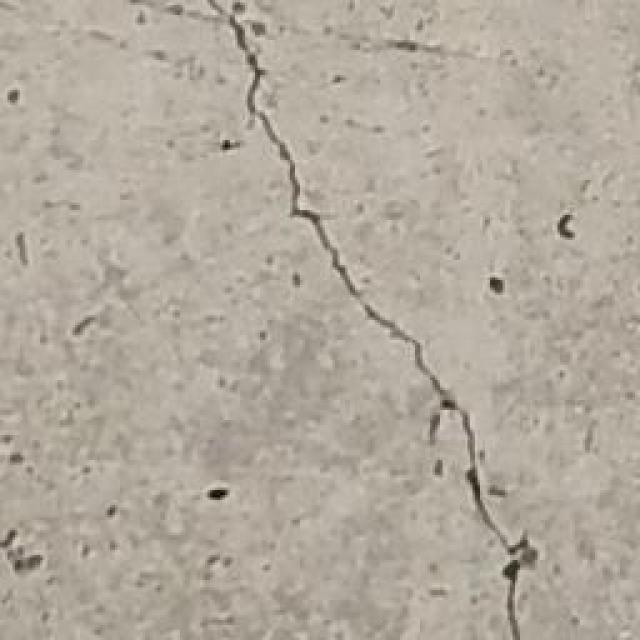concrete-crack: (208, 5, 538, 640)
